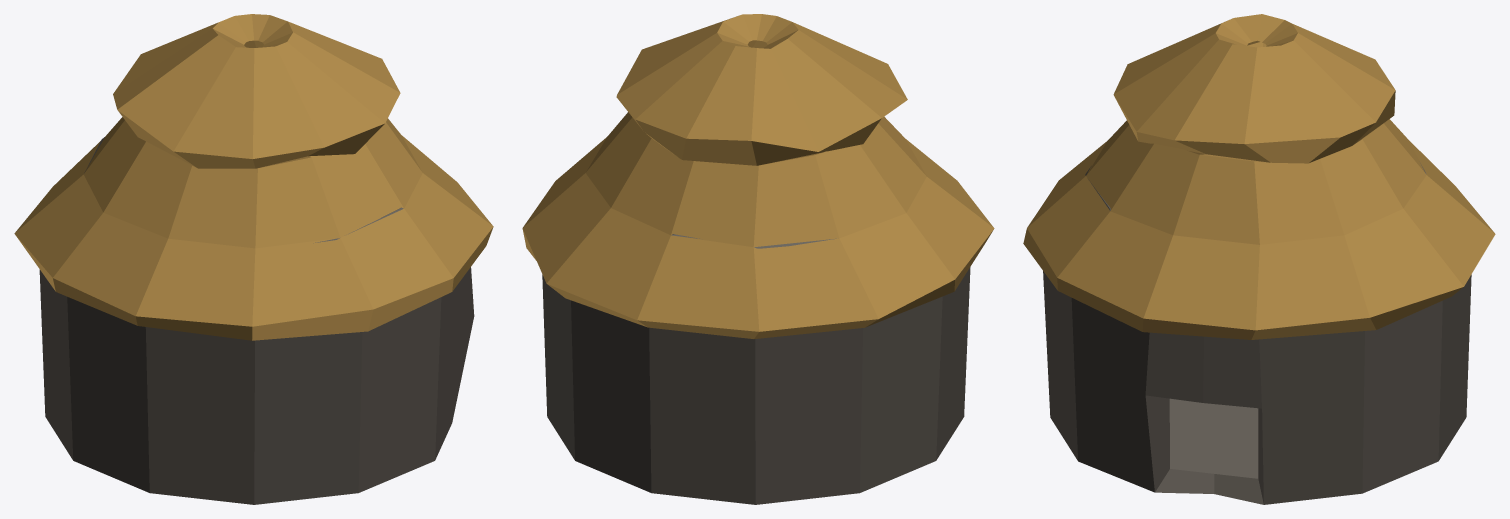
File: forest_people_house_11.fbx
3 renders of one model, left to right at view 1: azimuth 30°, elevation 25°; view 2: azimuth 150°, elevation 25°; view 3: azimuth 270°, elevation 25°, orthographic.
Visible parts, largest first — view 1: Cylinder; view 2: Cylinder; view 3: Cylinder.
Part boxes in pixels (left/top/right/bottom): Cylinder: left=14, top=14, right=493, bottom=504; Cylinder: left=522, top=14, right=994, bottom=504; Cylinder: left=1023, top=14, right=1495, bottom=504.
Size of the model in its own units: 410 by 385 by 418.
